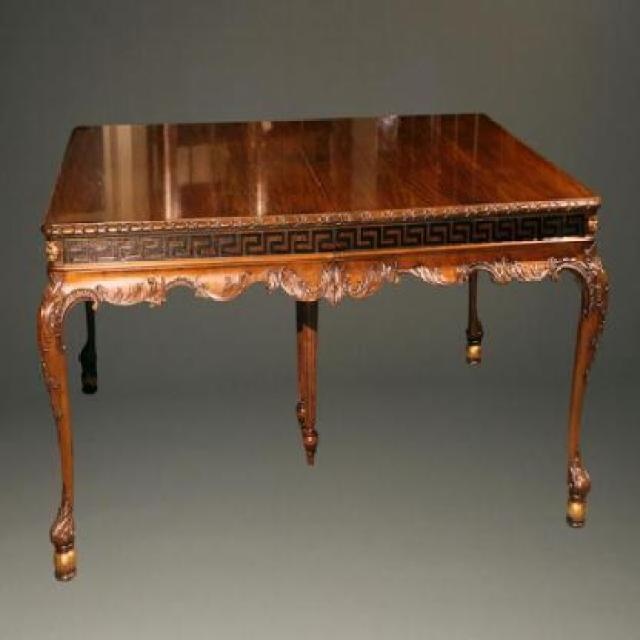tables: (36, 111, 610, 580)
